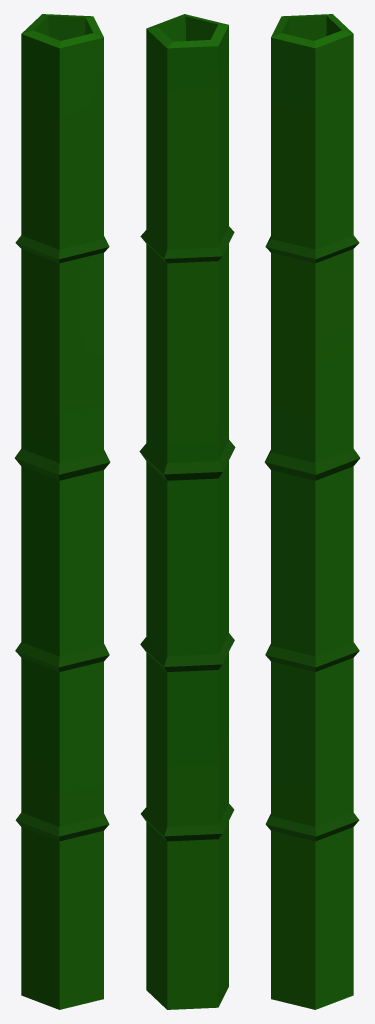
File: ShortBamboo.glb
The picture shows the model from 3 angles, left to right: view 1: azimuth 30°, elevation 25°; view 2: azimuth 150°, elevation 25°; view 3: azimuth 330°, elevation 25°; orthographic projection.
Visible parts, largest first — view 1: Bamboo_2A; view 2: Bamboo_2A; view 3: Bamboo_2A.
Boxes of the visible parts, box(x1,y1,x2,y2) form: Bamboo_2A: box(15, 14, 110, 1009); Bamboo_2A: box(139, 14, 235, 1009); Bamboo_2A: box(264, 14, 359, 1009).
Bounding box in the file's own units: 0.0668 × 0.7381 × 0.0635.
1 material, 1 textured.
